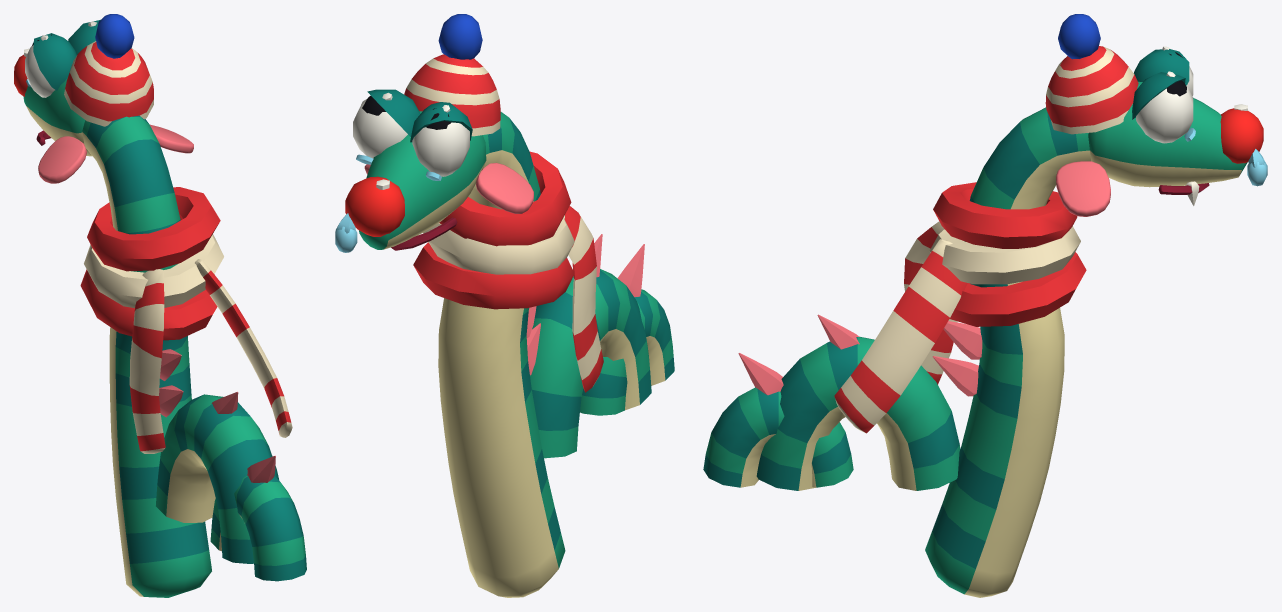
File: serpent.glb
The picture shows the model from 3 angles, left to right: view 1: azimuth 30°, elevation 25°; view 2: azimuth 150°, elevation 25°; view 3: azimuth 270°, elevation 25°; orthographic projection. The views are drawn at different scales.
Visible parts, largest first — view 1: Serpent; view 2: Serpent; view 3: Serpent.
Boxes of the visible parts, <box> form: Serpent: <box>14,14,306,597</box>; Serpent: <box>335,14,674,597</box>; Serpent: <box>703,14,1267,597</box>.
Size of the model in its own units: 0.8732 by 3.13 by 2.78.
2 materials, 1 textured.
